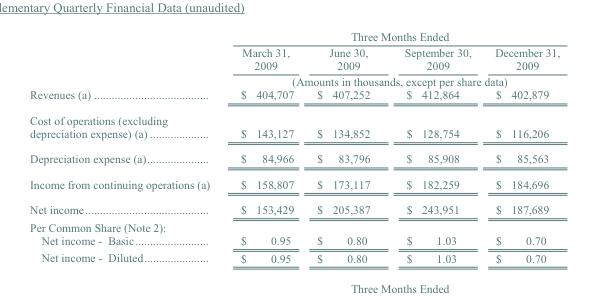table: (29, 28, 559, 265)
table column: (29, 28, 224, 265), (386, 28, 482, 265), (304, 28, 386, 265), (224, 28, 304, 265), (482, 28, 559, 265)
table column header: (29, 28, 559, 87)
table projected row header: (29, 217, 559, 233)
table row: (29, 106, 559, 145), (29, 44, 559, 73), (29, 170, 559, 196), (29, 145, 559, 170), (29, 196, 559, 217), (29, 87, 559, 106), (29, 248, 559, 265), (29, 28, 559, 44), (29, 217, 559, 233), (29, 233, 559, 248), (29, 73, 559, 87)
table spanning cell: (224, 28, 559, 44), (224, 73, 559, 87)
